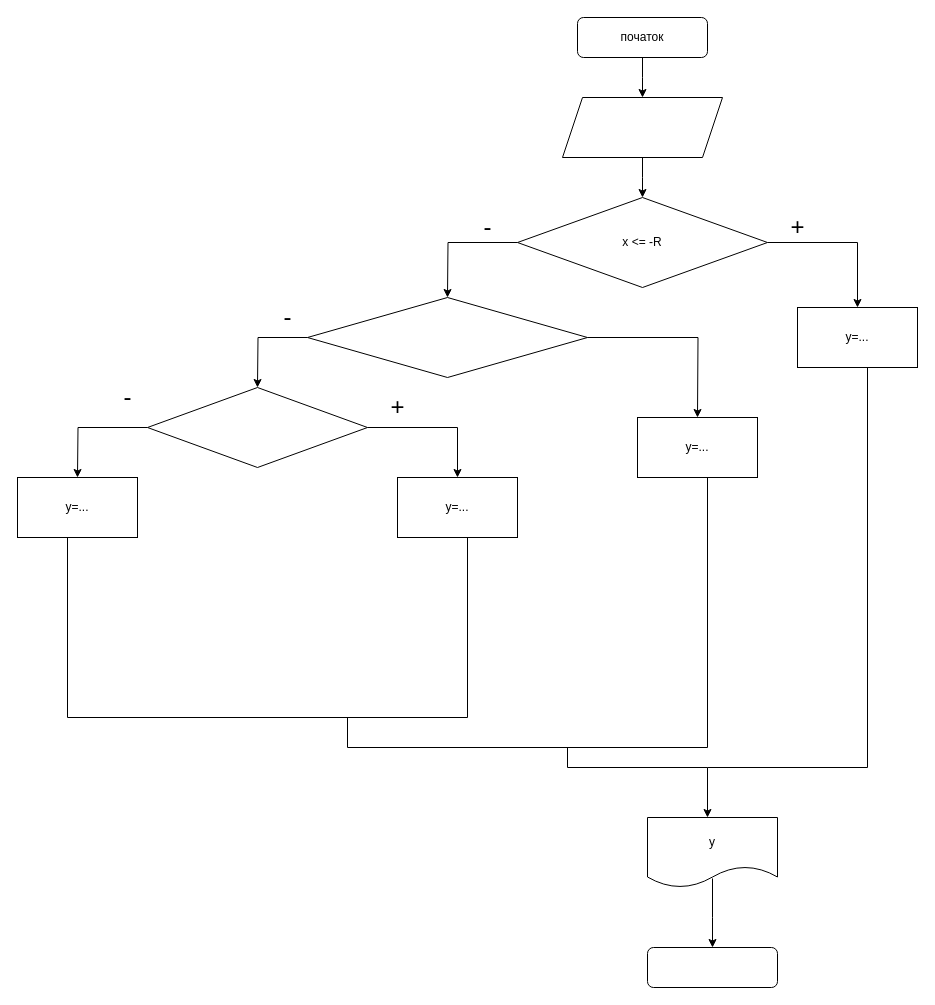
This 935x1005 diagram has some shape labels left out. Here are the shapes that lost their labels. From the top down, the centre of each, then its label:
point 642,127: x,R
point 447,337: -R < x && x <= R
point 257,427: R < x && x <= 6
point 712,967: кінець
